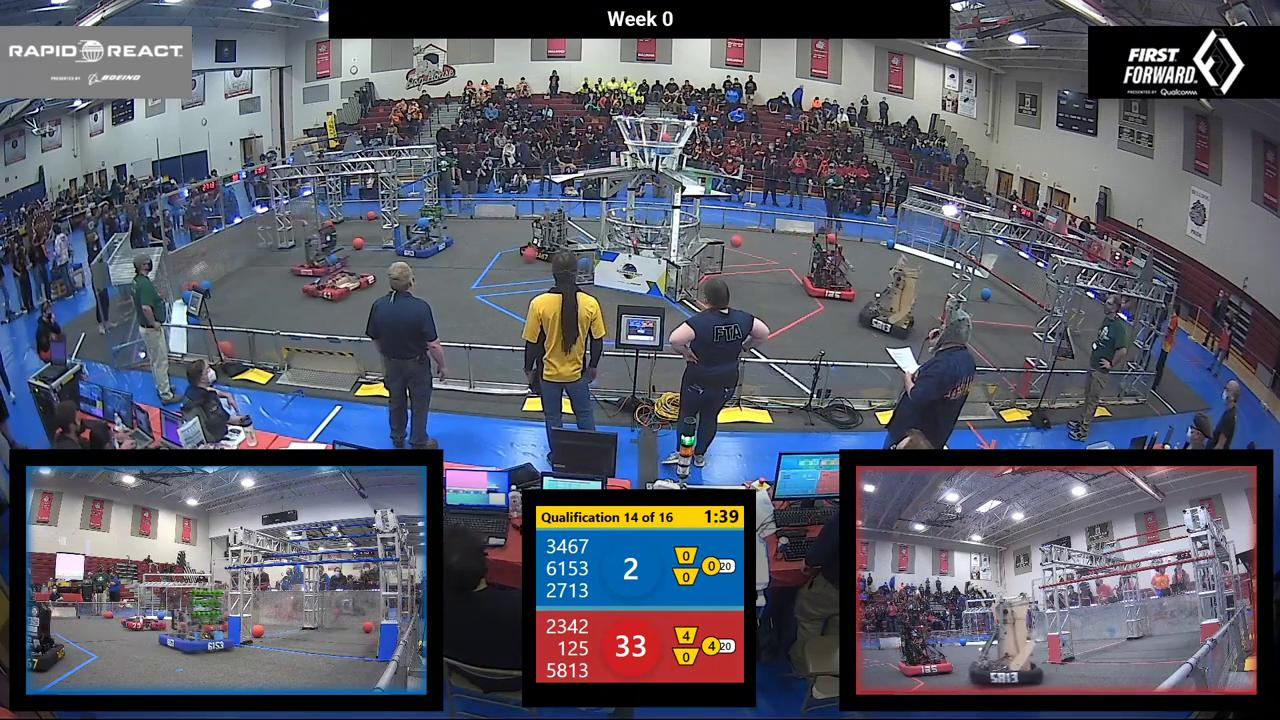robot: (966, 598, 1044, 690), (161, 588, 232, 654), (860, 256, 915, 339), (286, 222, 347, 276), (398, 220, 450, 261), (804, 257, 853, 299), (900, 642, 955, 673), (307, 275, 373, 300), (122, 613, 163, 629)
